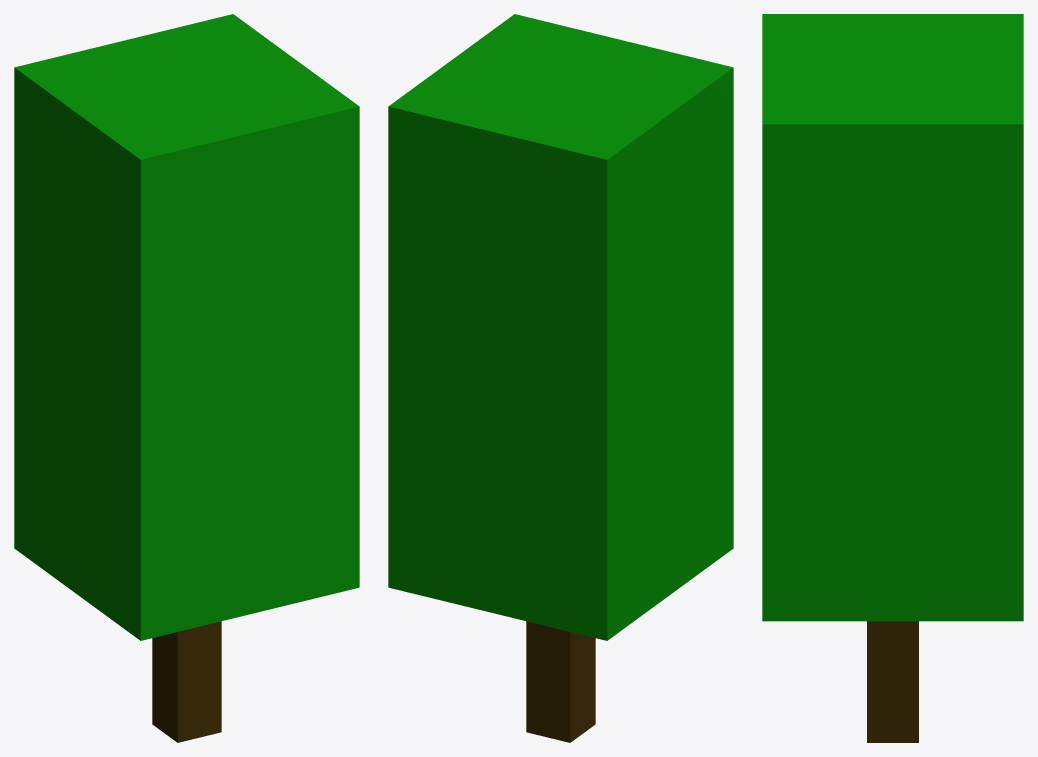
Rendered from Tree1.dae.
The picture shows the model from 3 angles, left to right: view 1: azimuth 30°, elevation 25°; view 2: azimuth 150°, elevation 25°; view 3: azimuth 270°, elevation 25°; orthographic projection. The views are drawn at different scales.
Visible parts, largest first — view 1: Tree; view 2: Tree; view 3: Tree.
Boxes of the visible parts, <box> form: Tree: <box>14,14,359,742</box>; Tree: <box>388,14,733,742</box>; Tree: <box>762,14,1023,742</box>.
Size of the model in its own units: 10 by 28 by 10.
1 material, 1 textured.
